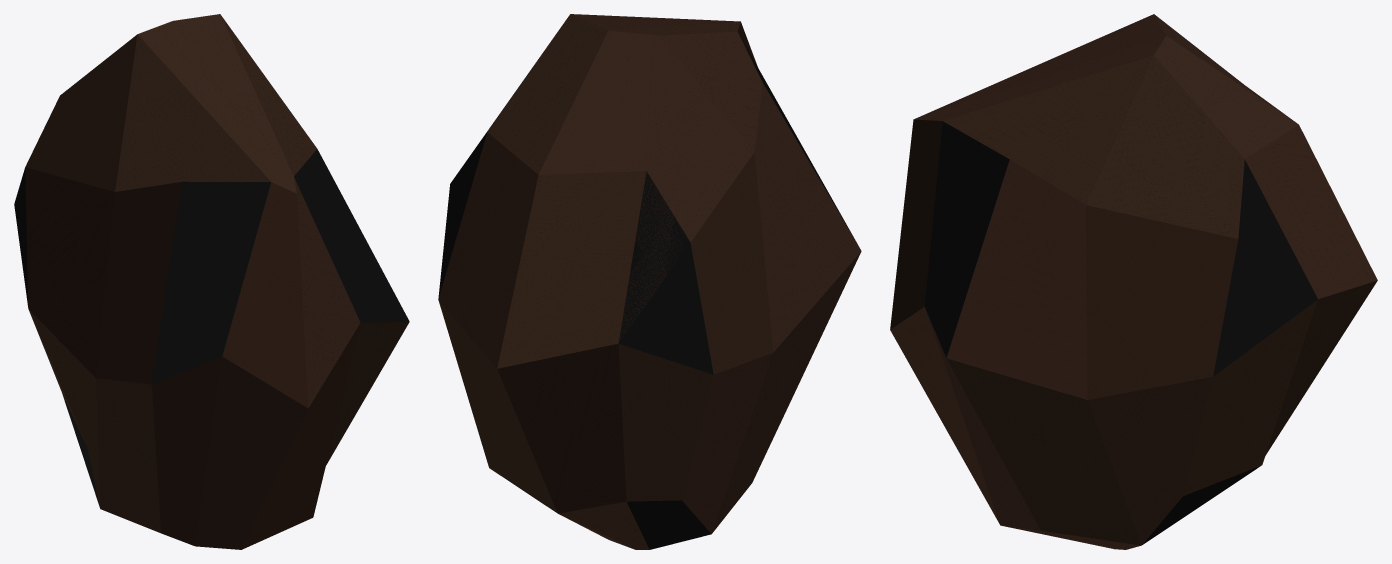
Rendered from rock01.glb.
The picture shows the model from 3 angles, left to right: view 1: azimuth 30°, elevation 25°; view 2: azimuth 150°, elevation 25°; view 3: azimuth 270°, elevation 25°; orthographic projection. The views are drawn at different scales.
Parts seen in each view (by area): view 1: Cube; view 2: Cube; view 3: Cube.
Boxes of the visible parts, <box> form: Cube: <box>14,14,409,549</box>; Cube: <box>438,14,861,549</box>; Cube: <box>890,14,1377,549</box>.
Bounding box in the file's own units: 1.9 × 3.55 × 3.05.
Materials: 1 (1 with a texture image).
